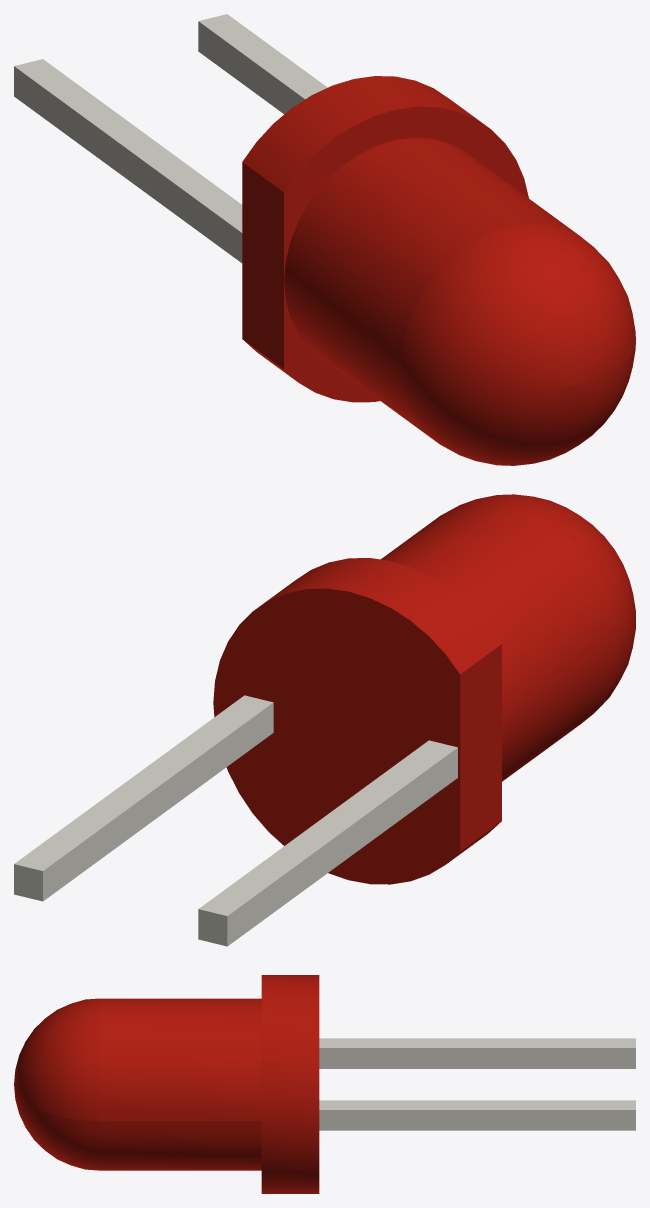
The model's file is LED_THT_LED_D3.0mm.glb.
The picture shows the model from 3 angles, top to bottom: view 1: azimuth 30°, elevation 25°; view 2: azimuth 150°, elevation 25°; view 3: azimuth 270°, elevation 25°; orthographic projection. The views are drawn at different scales.
Bounding box in the file's own units: 3.4 × 3.8 × 10.8.
